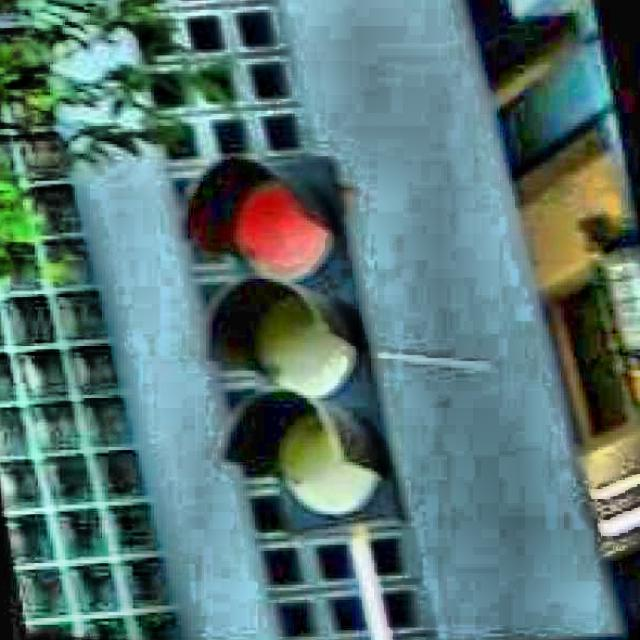red: (206, 143, 394, 532)
